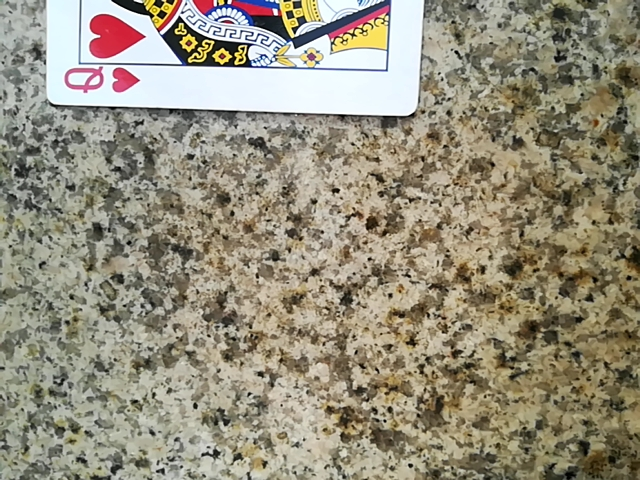hx q: (37, 0, 433, 113)
